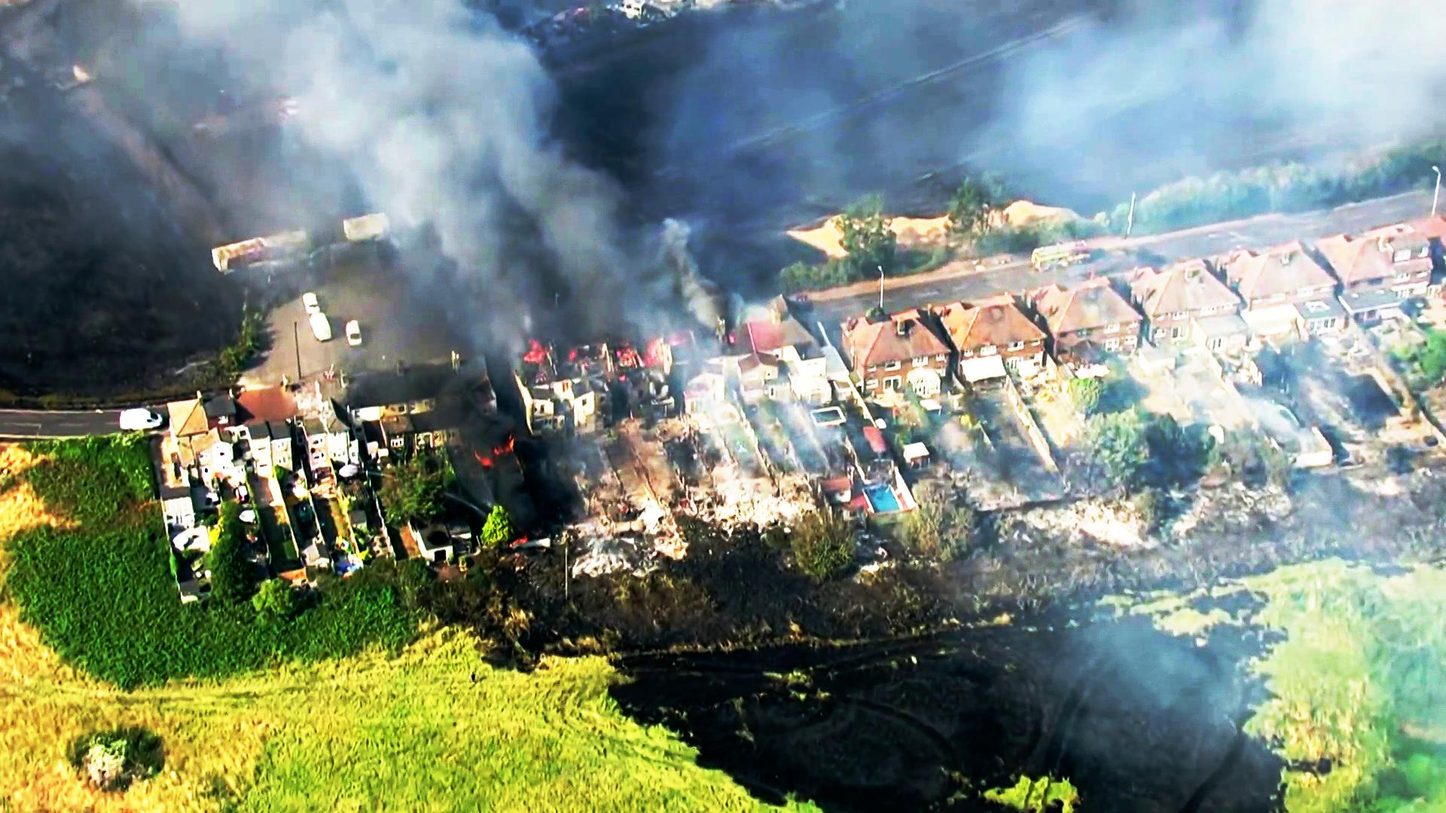smoke: (221, 0, 514, 232), (350, 116, 571, 326), (1132, 0, 1446, 130)
